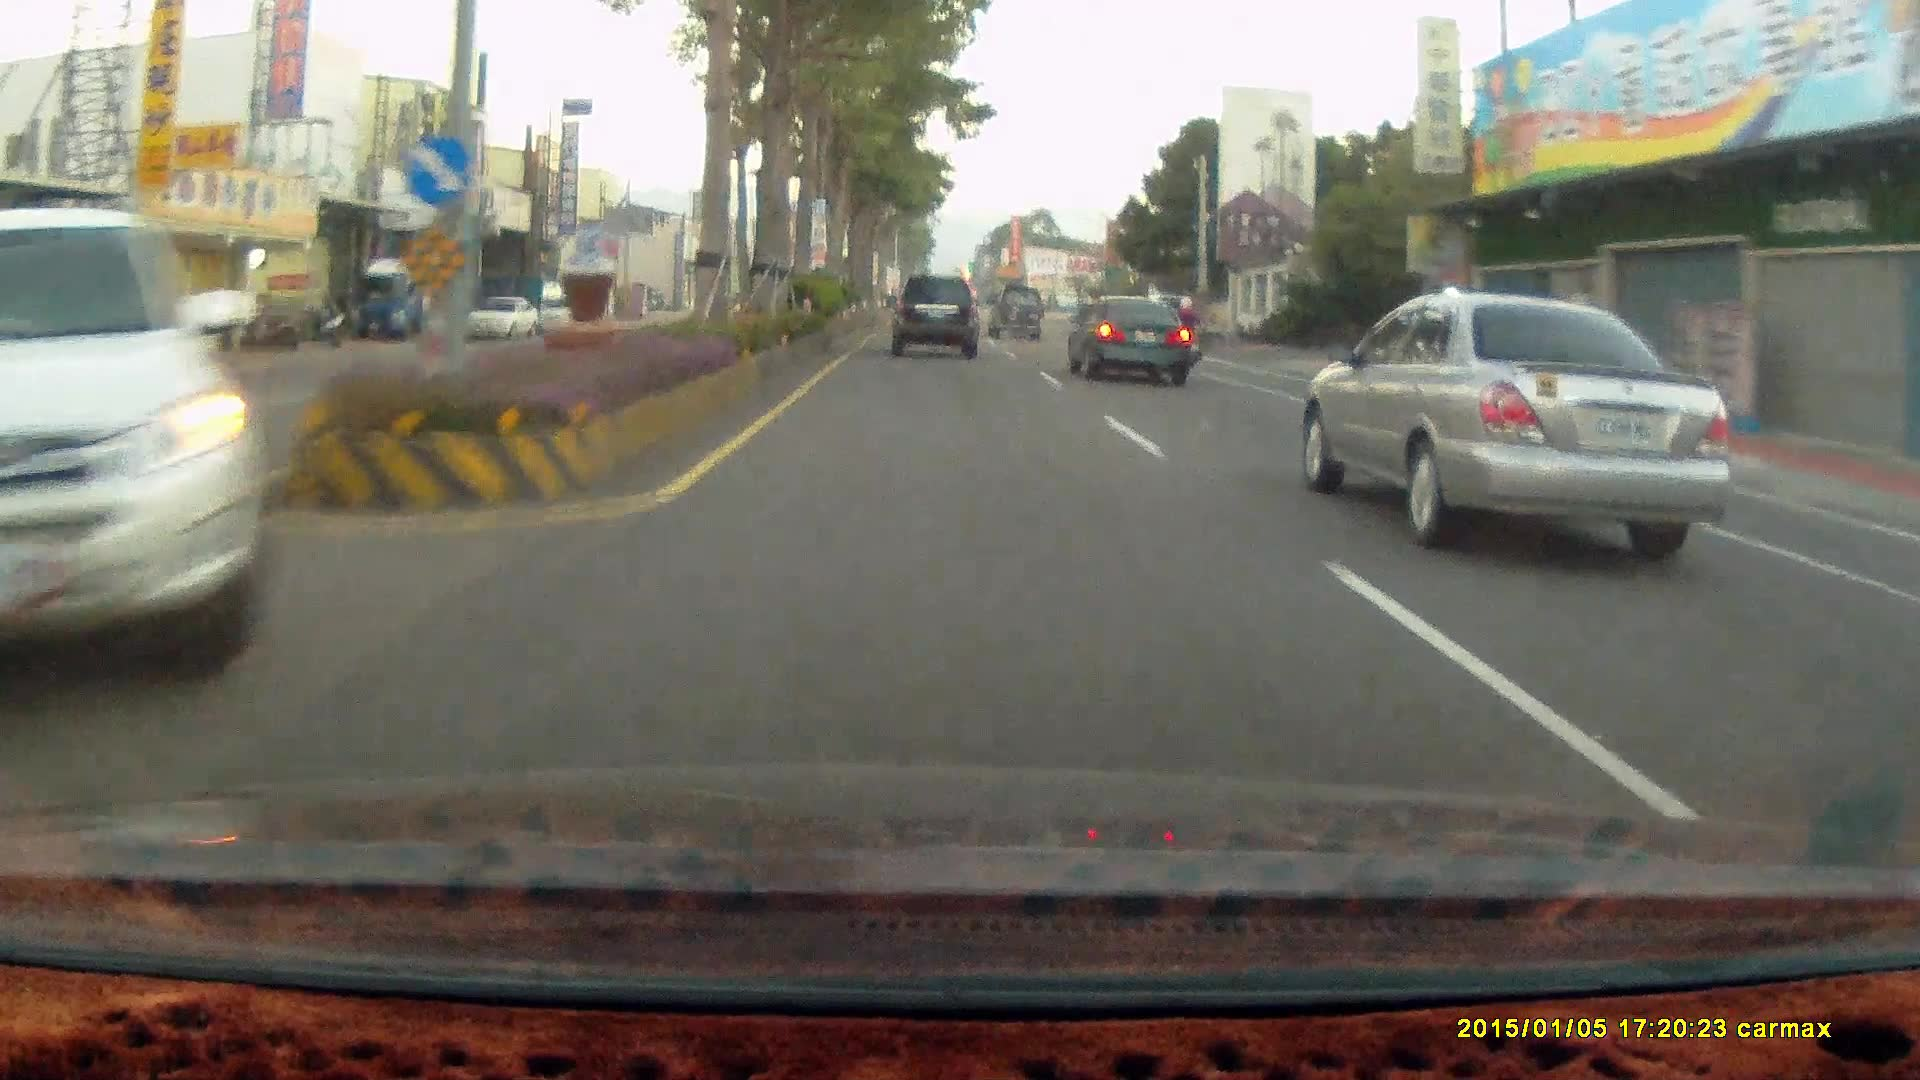rider: (1162, 295, 1207, 370)
vehicle: (1, 207, 281, 690), (0, 205, 272, 687), (1298, 294, 1728, 557), (1064, 297, 1192, 389), (18, 297, 144, 388), (1071, 305, 1200, 391), (354, 255, 459, 341), (357, 260, 462, 346), (889, 272, 985, 357), (891, 274, 978, 358), (467, 304, 543, 349), (465, 297, 540, 342), (987, 290, 1045, 348), (986, 284, 1044, 342)
